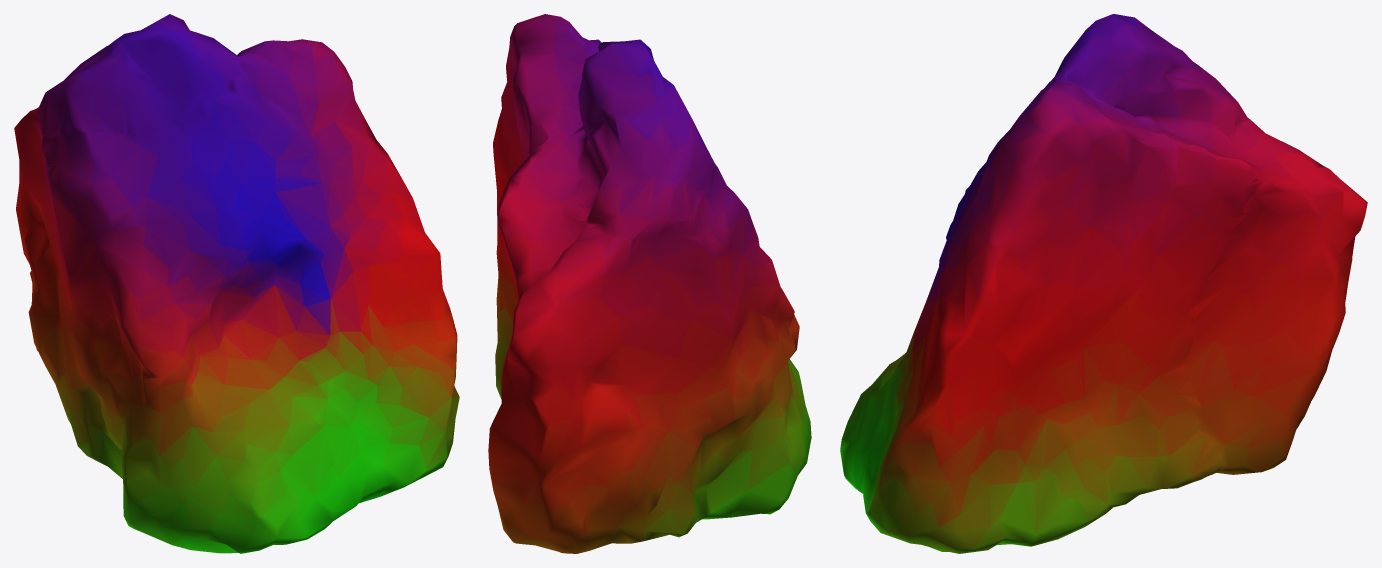
Rendered from Rock_Boulder.fbx.
The picture shows the model from 3 angles, left to right: view 1: azimuth 30°, elevation 25°; view 2: azimuth 150°, elevation 25°; view 3: azimuth 270°, elevation 25°; orthographic projection. The views are drawn at different scales.
Visible parts, largest first — view 1: rock_boulder_02d; view 2: rock_boulder_02d; view 3: rock_boulder_02d.
Part boxes in pixels (<box>): rock_boulder_02d: <box>14,14,459,553</box>; rock_boulder_02d: <box>488,14,811,553</box>; rock_boulder_02d: <box>840,14,1367,553</box>.
Bounding box in the file's own units: 18.35 × 26.94 × 26.68.
